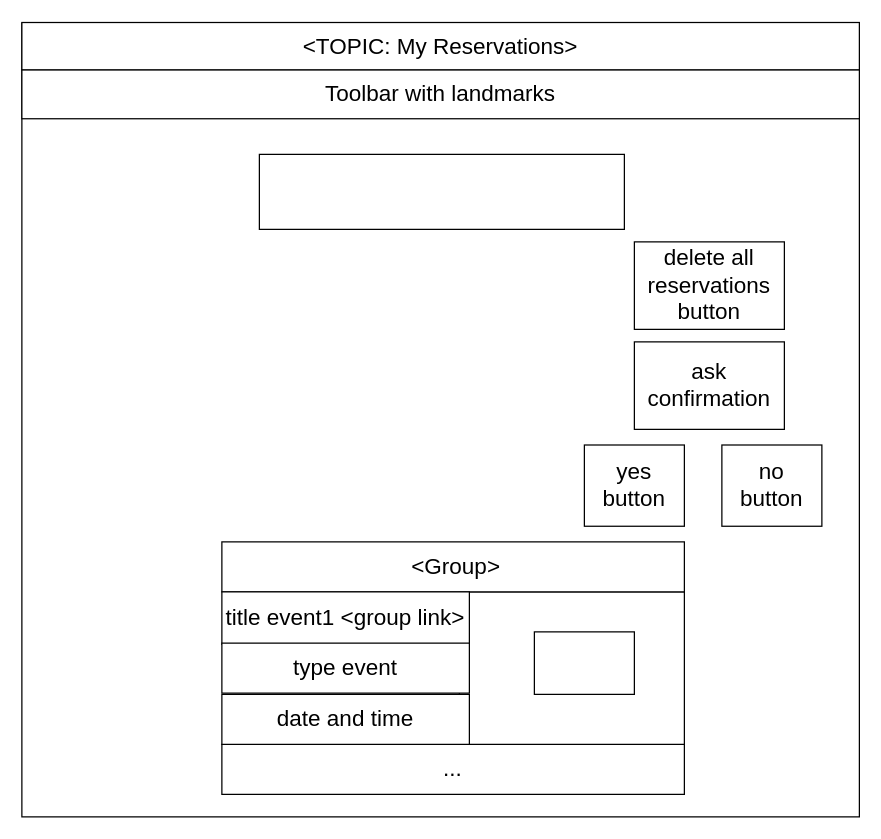
This 881x839 diagram has some shape labels left out. Here are the shapes that lost their labels. From the top down, the box of each, then its label:
(258, 153, 624, 229): Orientation info
(533, 631, 634, 694): remove button
